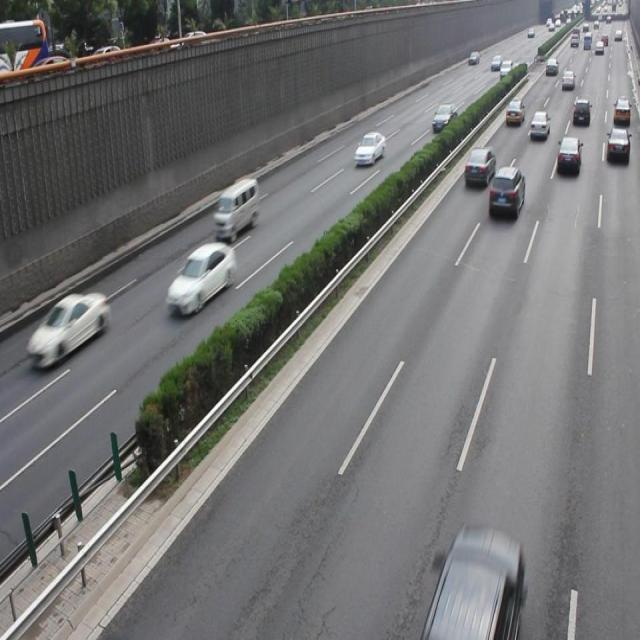car: (427, 524, 520, 640), (28, 290, 110, 368), (166, 242, 235, 314), (487, 164, 524, 221), (462, 146, 494, 189), (354, 132, 384, 167), (555, 136, 580, 174)
truck: (214, 177, 259, 238)
